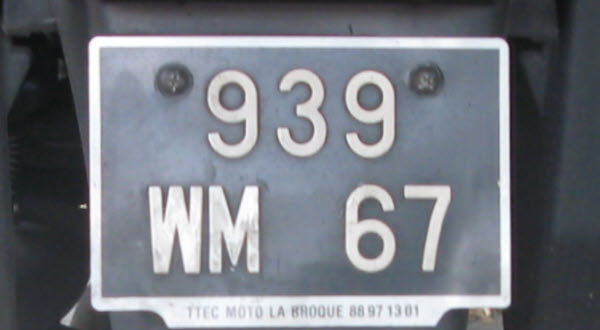license_plate: (89, 35, 511, 330)
